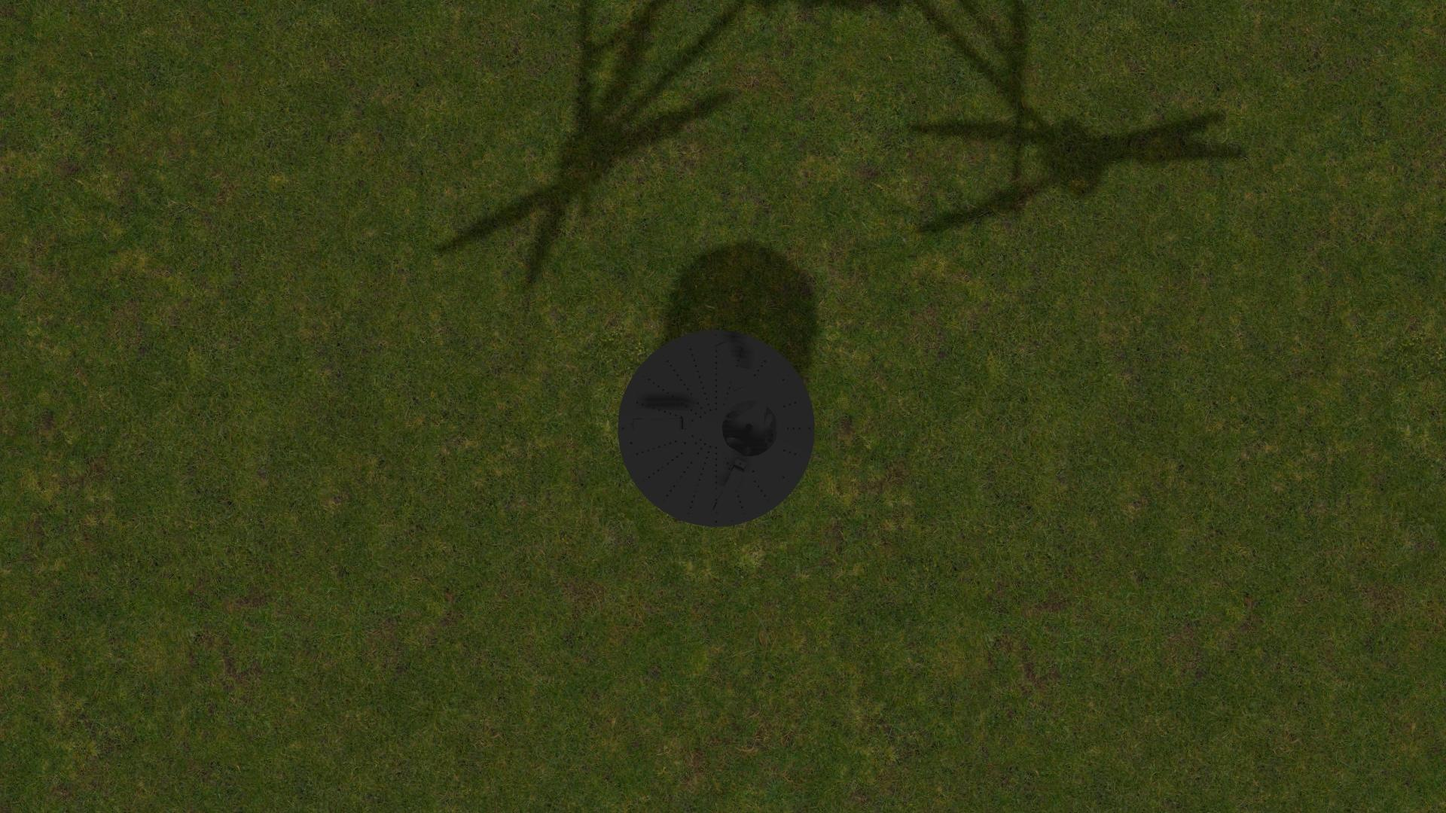alca: (712, 337, 747, 397), (711, 458, 746, 518), (628, 417, 689, 430)
armadilha: (618, 330, 815, 527)
